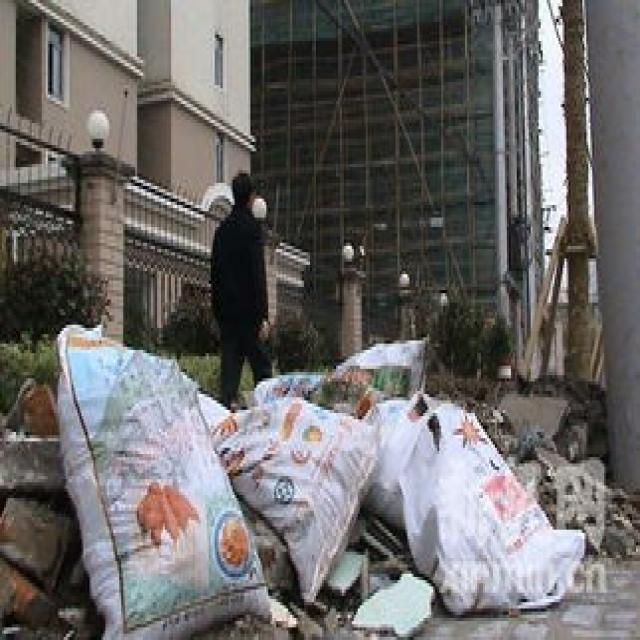garbage: (46, 320, 588, 640)
